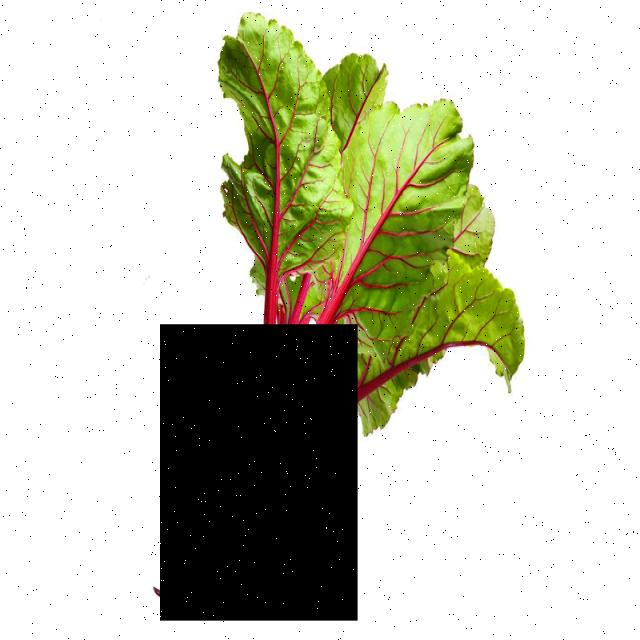Beetroot: (160, 324, 358, 621)
